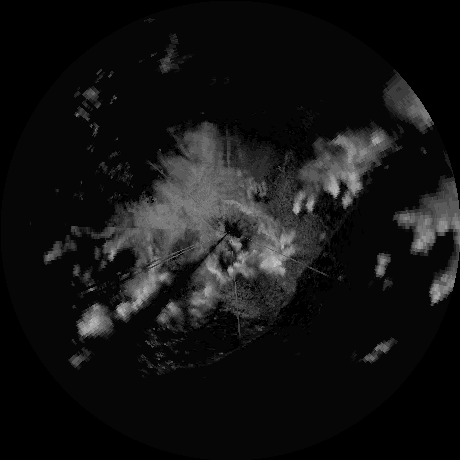frontgust: (153, 321, 270, 371)
